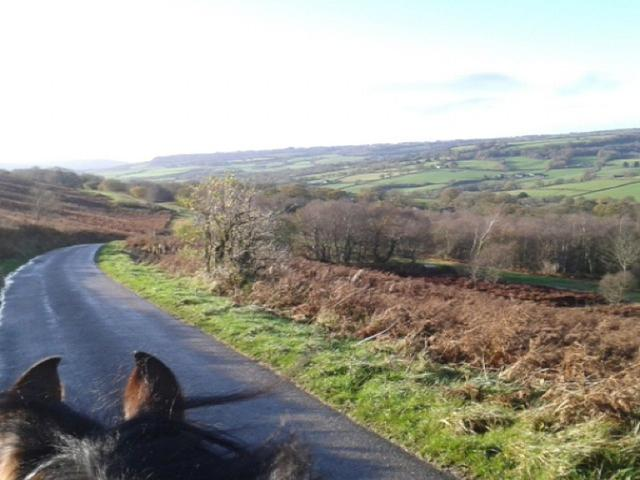dog: (3, 331, 297, 480)
